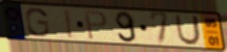7: (148, 11, 170, 47)
9: (114, 10, 139, 44)
G: (25, 7, 52, 38)
I: (64, 8, 75, 40)
P: (83, 10, 109, 41)
U: (174, 14, 202, 47)
